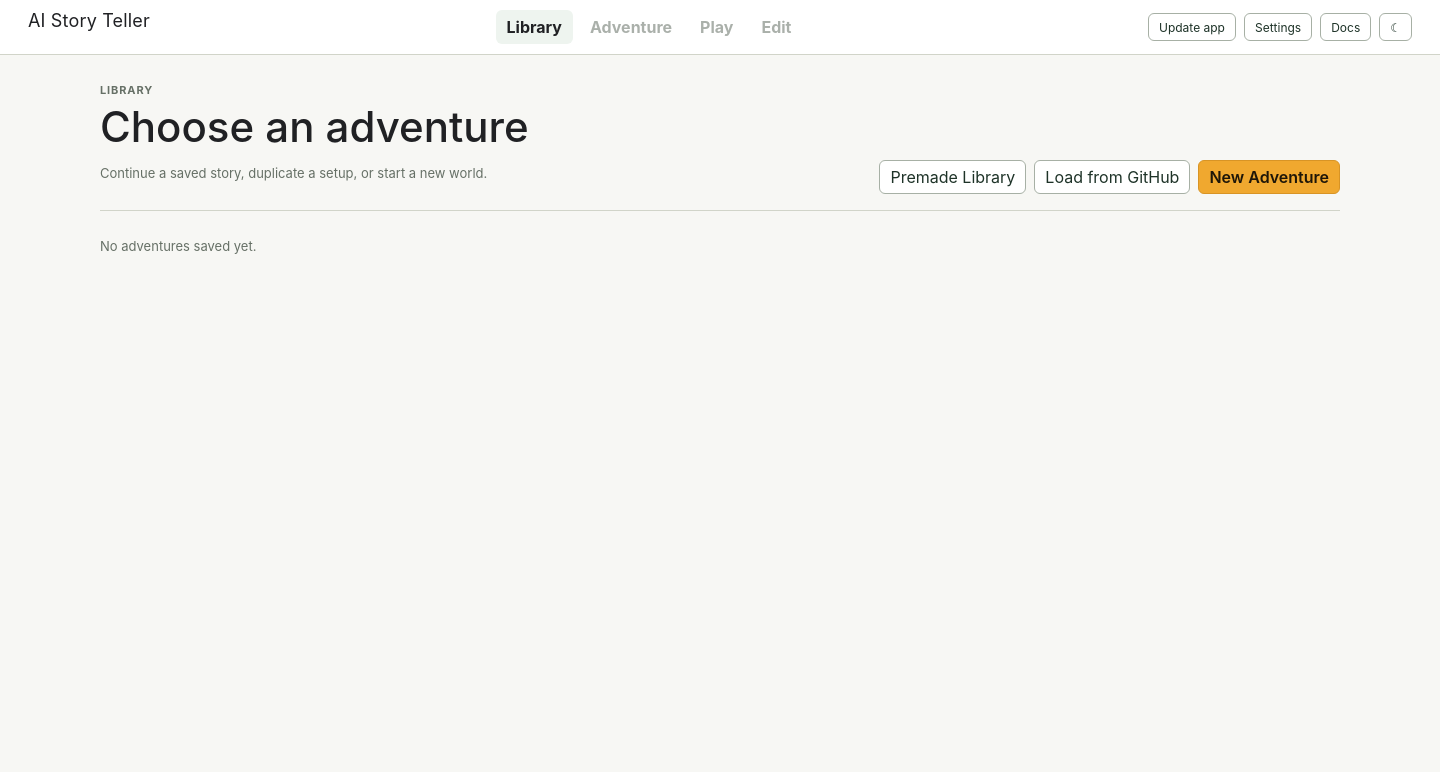
App adventure tool workspace › opens management tools in the editor workspace without losing the adventure
Click the button "New Adventure": click(1269, 177) [1198, 160, 1340, 194]
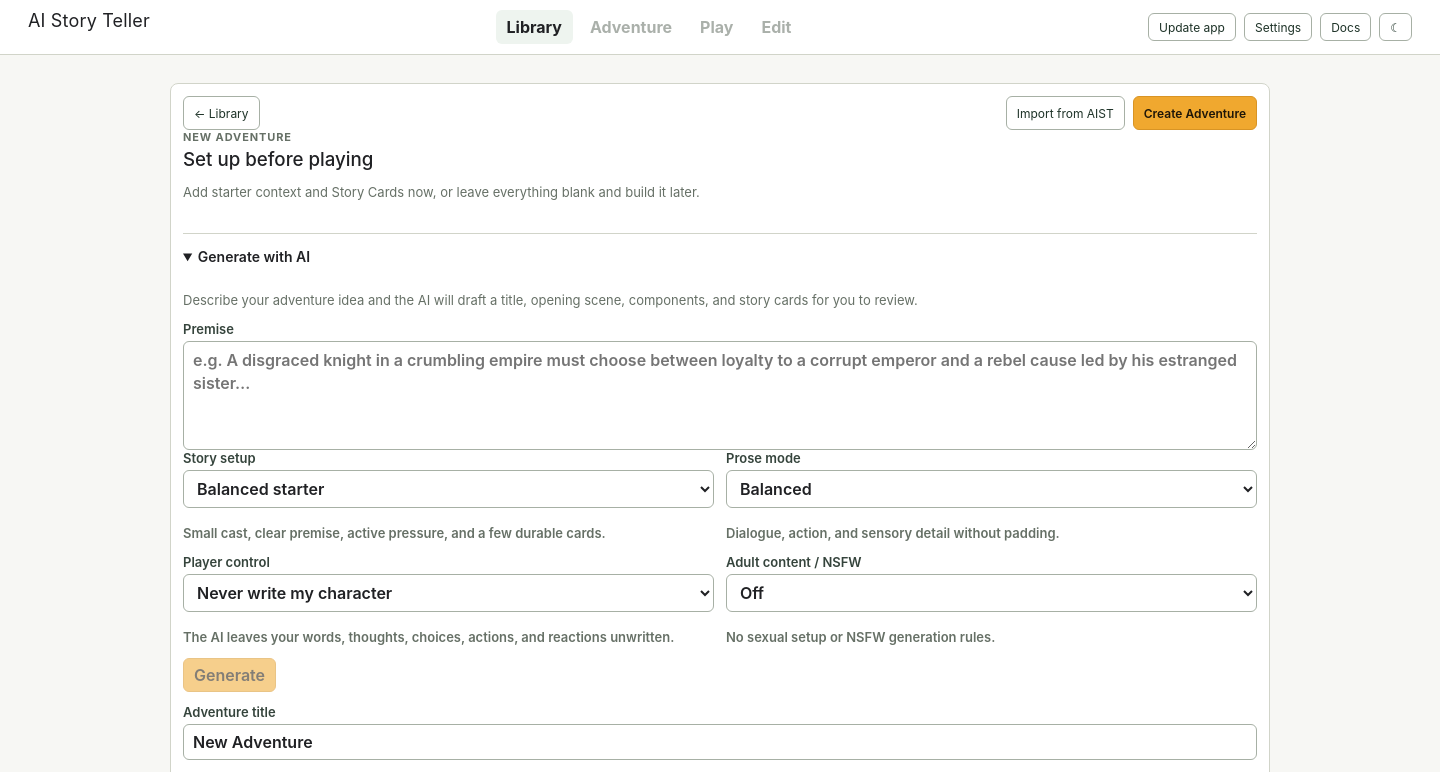
Replace the text in the field showing "New Adventure" with "Workspace Test": (720, 742) [183, 724, 1257, 760]
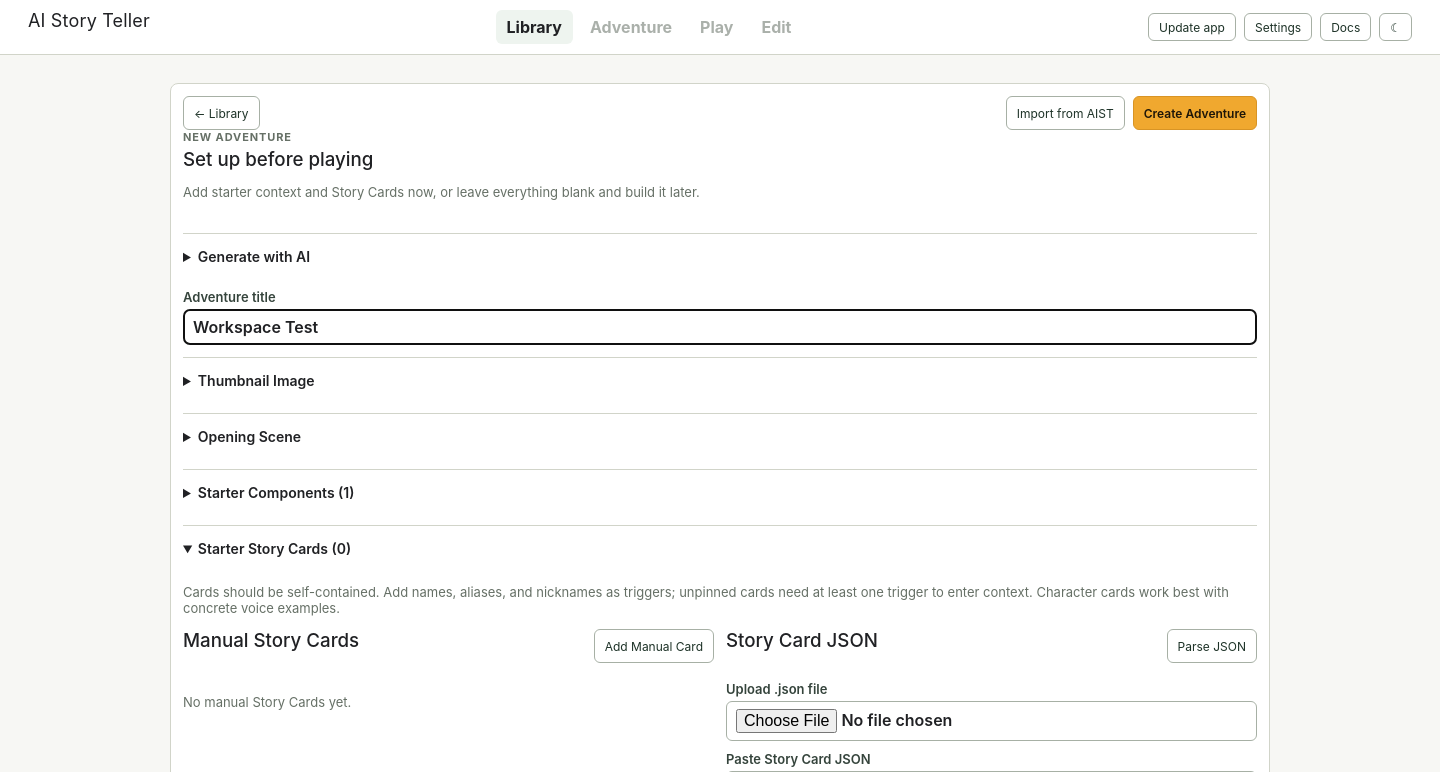
Click the button "Create Adventure": click(1195, 113) [1133, 96, 1257, 130]
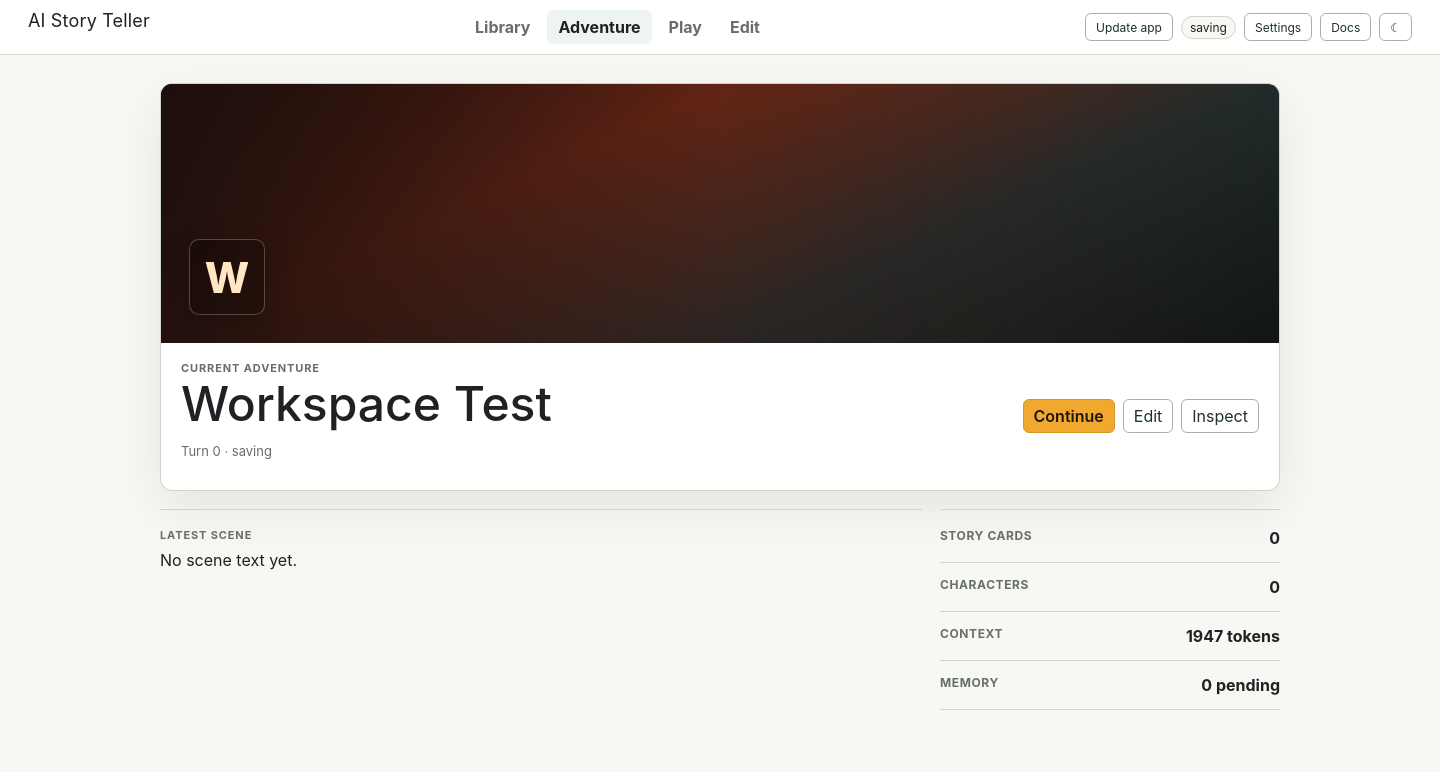
expect the heading "Workspace Test" is shown: met, box [181, 379, 552, 430]
Click the 1st button "Edit": click(745, 27) [719, 10, 771, 44]
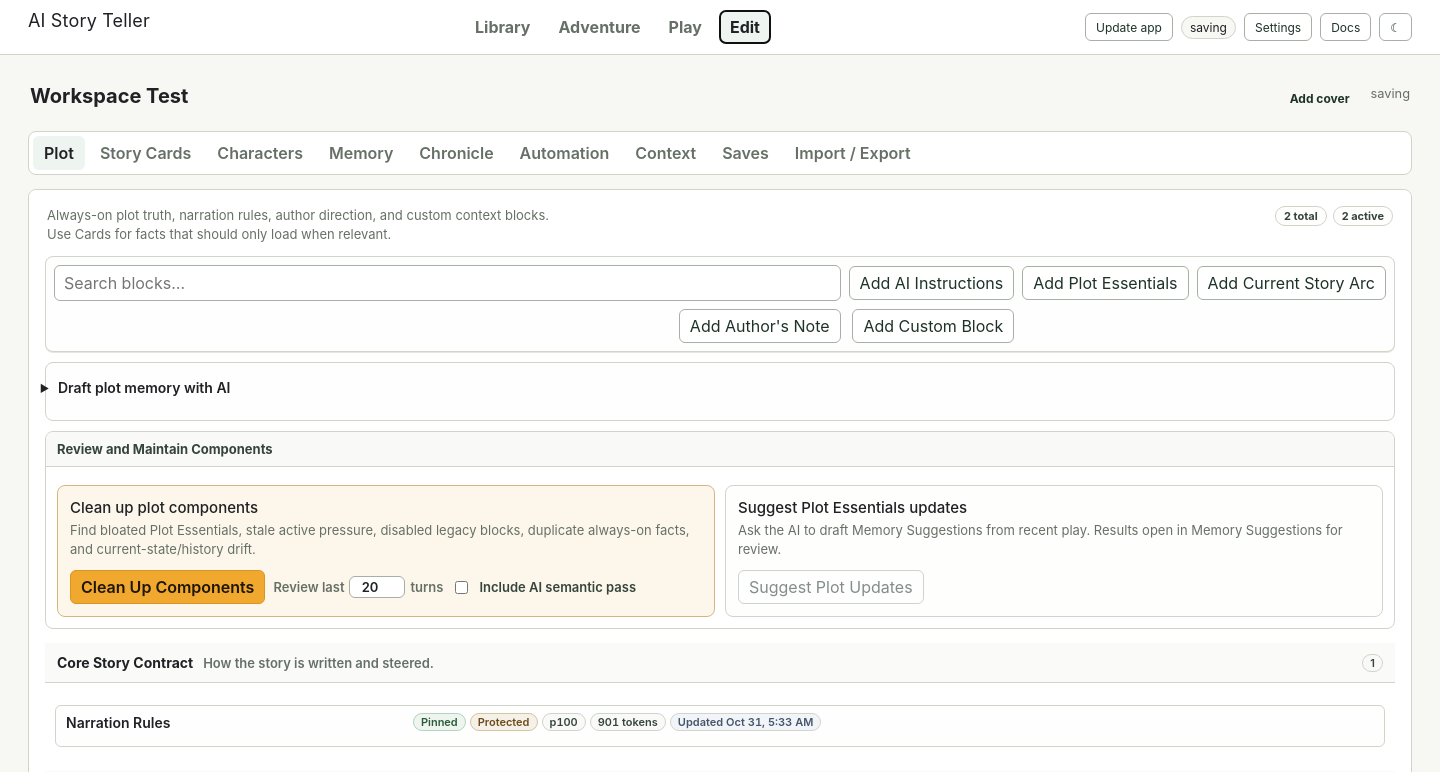
Click the button "Story Cards": click(146, 153) [89, 136, 202, 170]
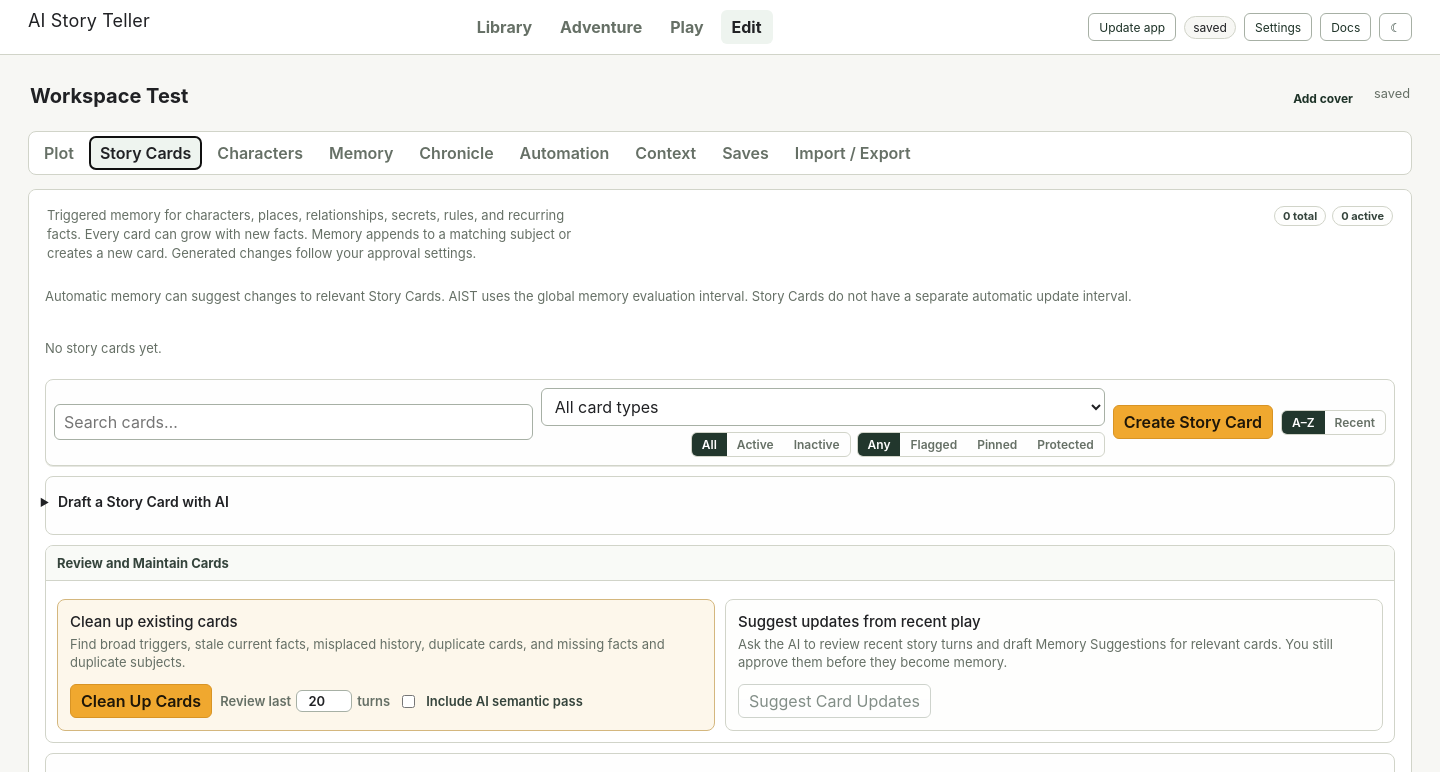
expect the field showing "Workspace Test" is shown: met, box [30, 84, 1274, 112]
expect the button "Create Story Card" is shown: met, box [1113, 405, 1273, 439]
Note: Adventure tab returns to dashboard — heading again
Click the button "Adventure": click(601, 27) [549, 10, 653, 44]
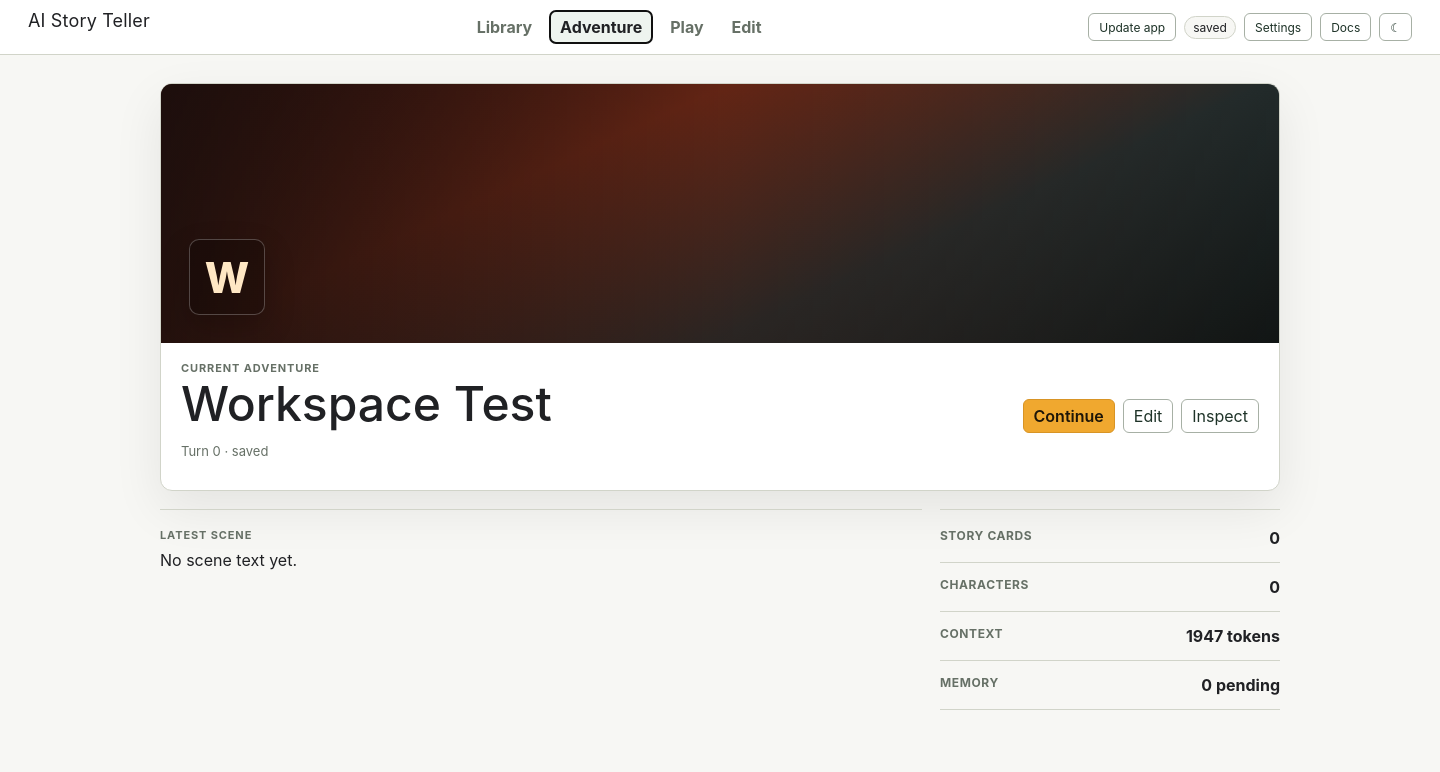
expect the heading "Workspace Test" is shown: met, box [181, 379, 552, 430]
